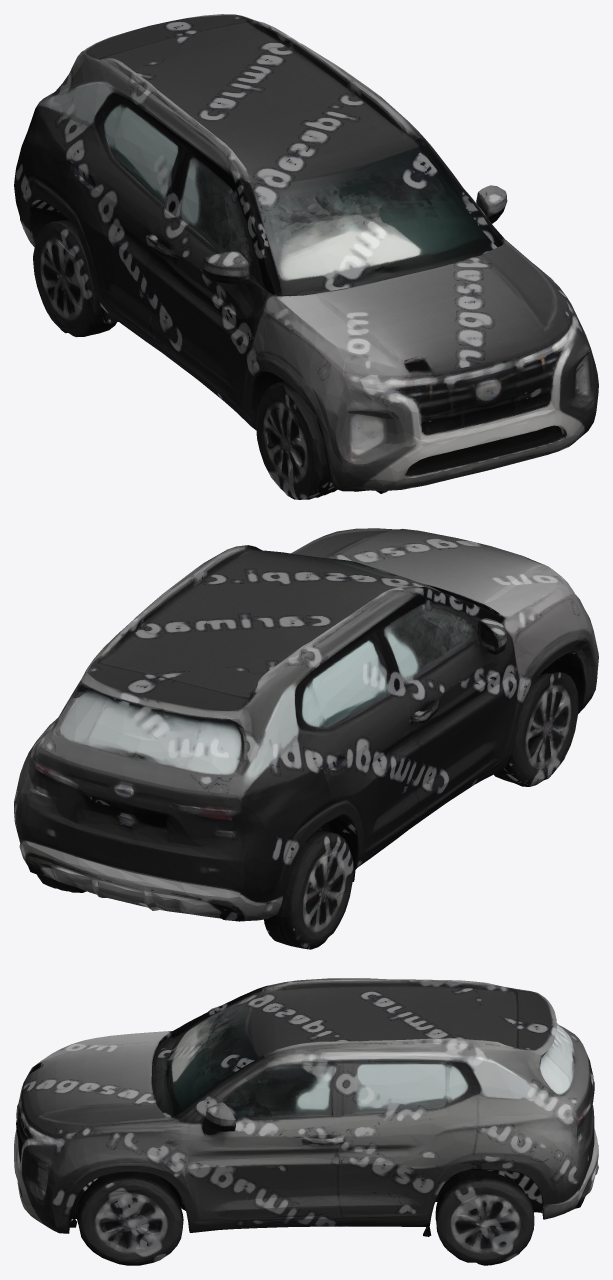
File: hyundai_creta_su2-2022-2025.glb
3 renders of one model, top to bottom at view 1: azimuth 30°, elevation 25°; view 2: azimuth 150°, elevation 25°; view 3: azimuth 270°, elevation 25°, orthographic. The views are drawn at different scales.
Parts seen in each view (by area): view 1: world; view 2: world; view 3: world.
Part boxes in pixels (bbox=[...]): world: bbox=[14, 14, 598, 499]; world: bbox=[14, 528, 598, 949]; world: bbox=[14, 978, 598, 1265].
Size of the model in its own units: 0.4659 by 0.3924 by 1.
1 material, 1 textured.
